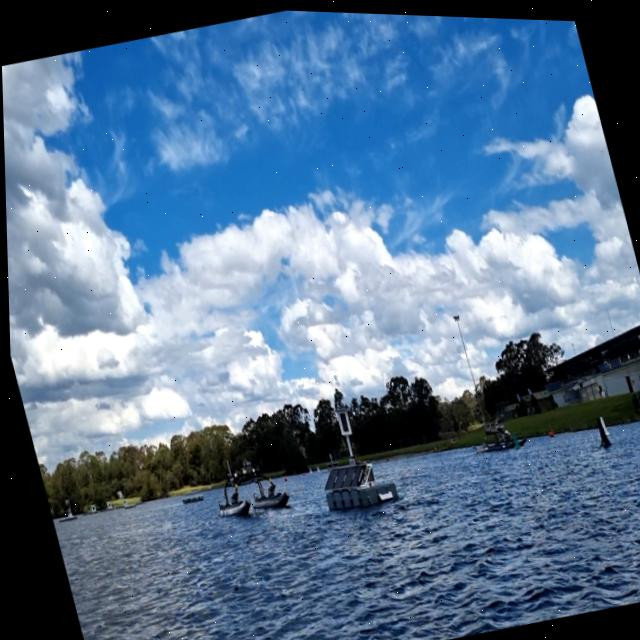led: (336, 408, 347, 431)
